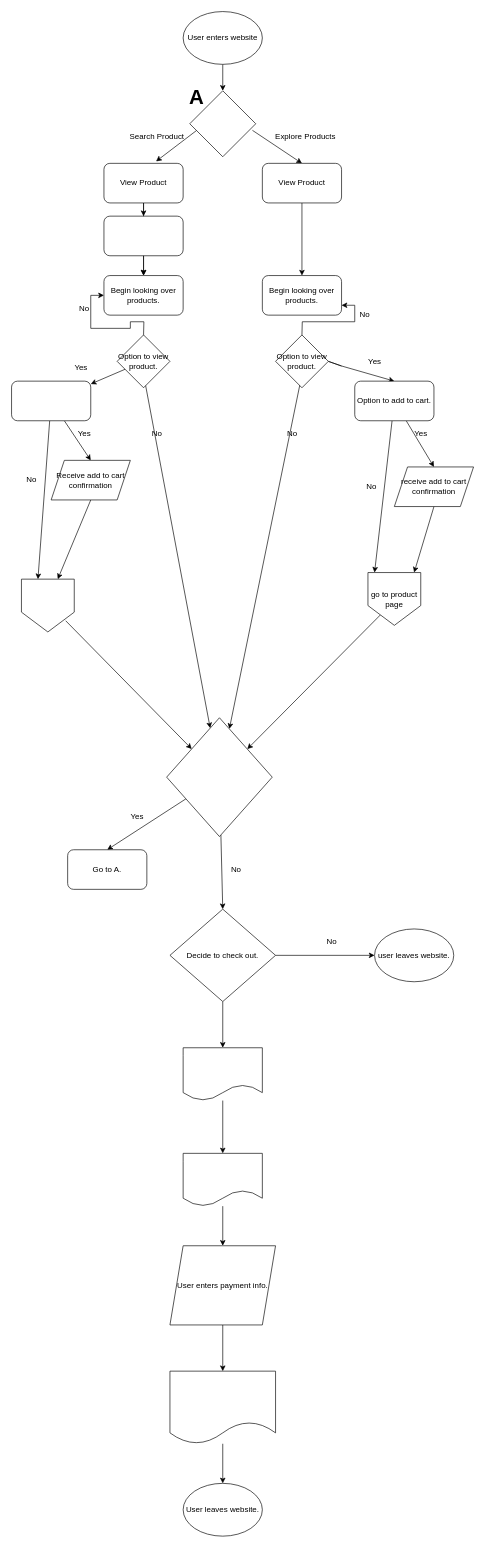
Some shapes in this 485 by 1548 pixel diagram are drawn without their labels. Here are the shapes that lost their labels. From the top down, the box of each, then its label:
(189, 90, 256, 157): option to search or explore products
(103, 215, 183, 256): Provide input of search
(11, 380, 91, 421): Option to add to cart
(21, 578, 74, 632): go to product page.
(166, 717, 272, 837): Decision to continue shopping.
(182, 1047, 262, 1101): View cart screen
(182, 1153, 262, 1206): View payment screen
(169, 1370, 276, 1444): Confirmation screen / receive email.
